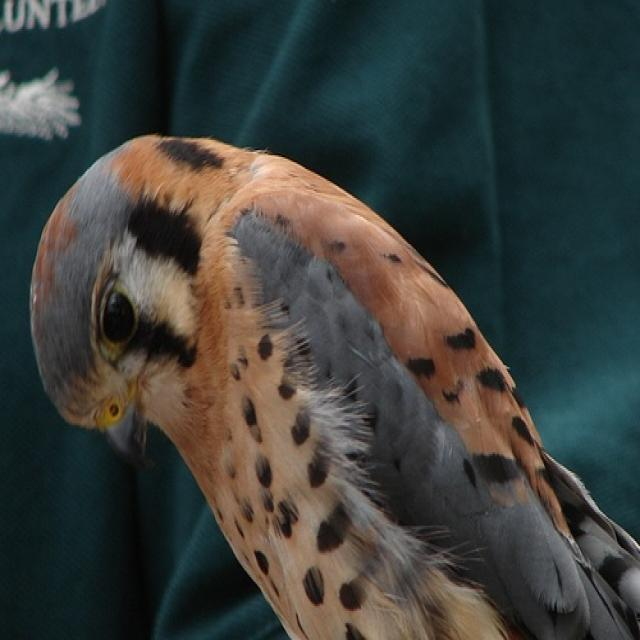bird: (26, 125, 638, 638)
